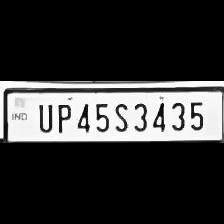3: (130, 98, 148, 132), (168, 98, 186, 132)
4: (72, 97, 92, 132), (148, 98, 168, 132)
5: (91, 98, 111, 132), (186, 97, 206, 131)
P: (52, 99, 72, 133)
S: (110, 98, 130, 132)
U: (32, 100, 54, 134)
